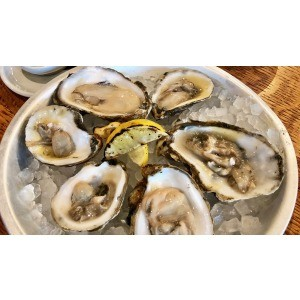oyster_brain food: (149, 86, 256, 223), (42, 173, 116, 225), (30, 117, 78, 160)
